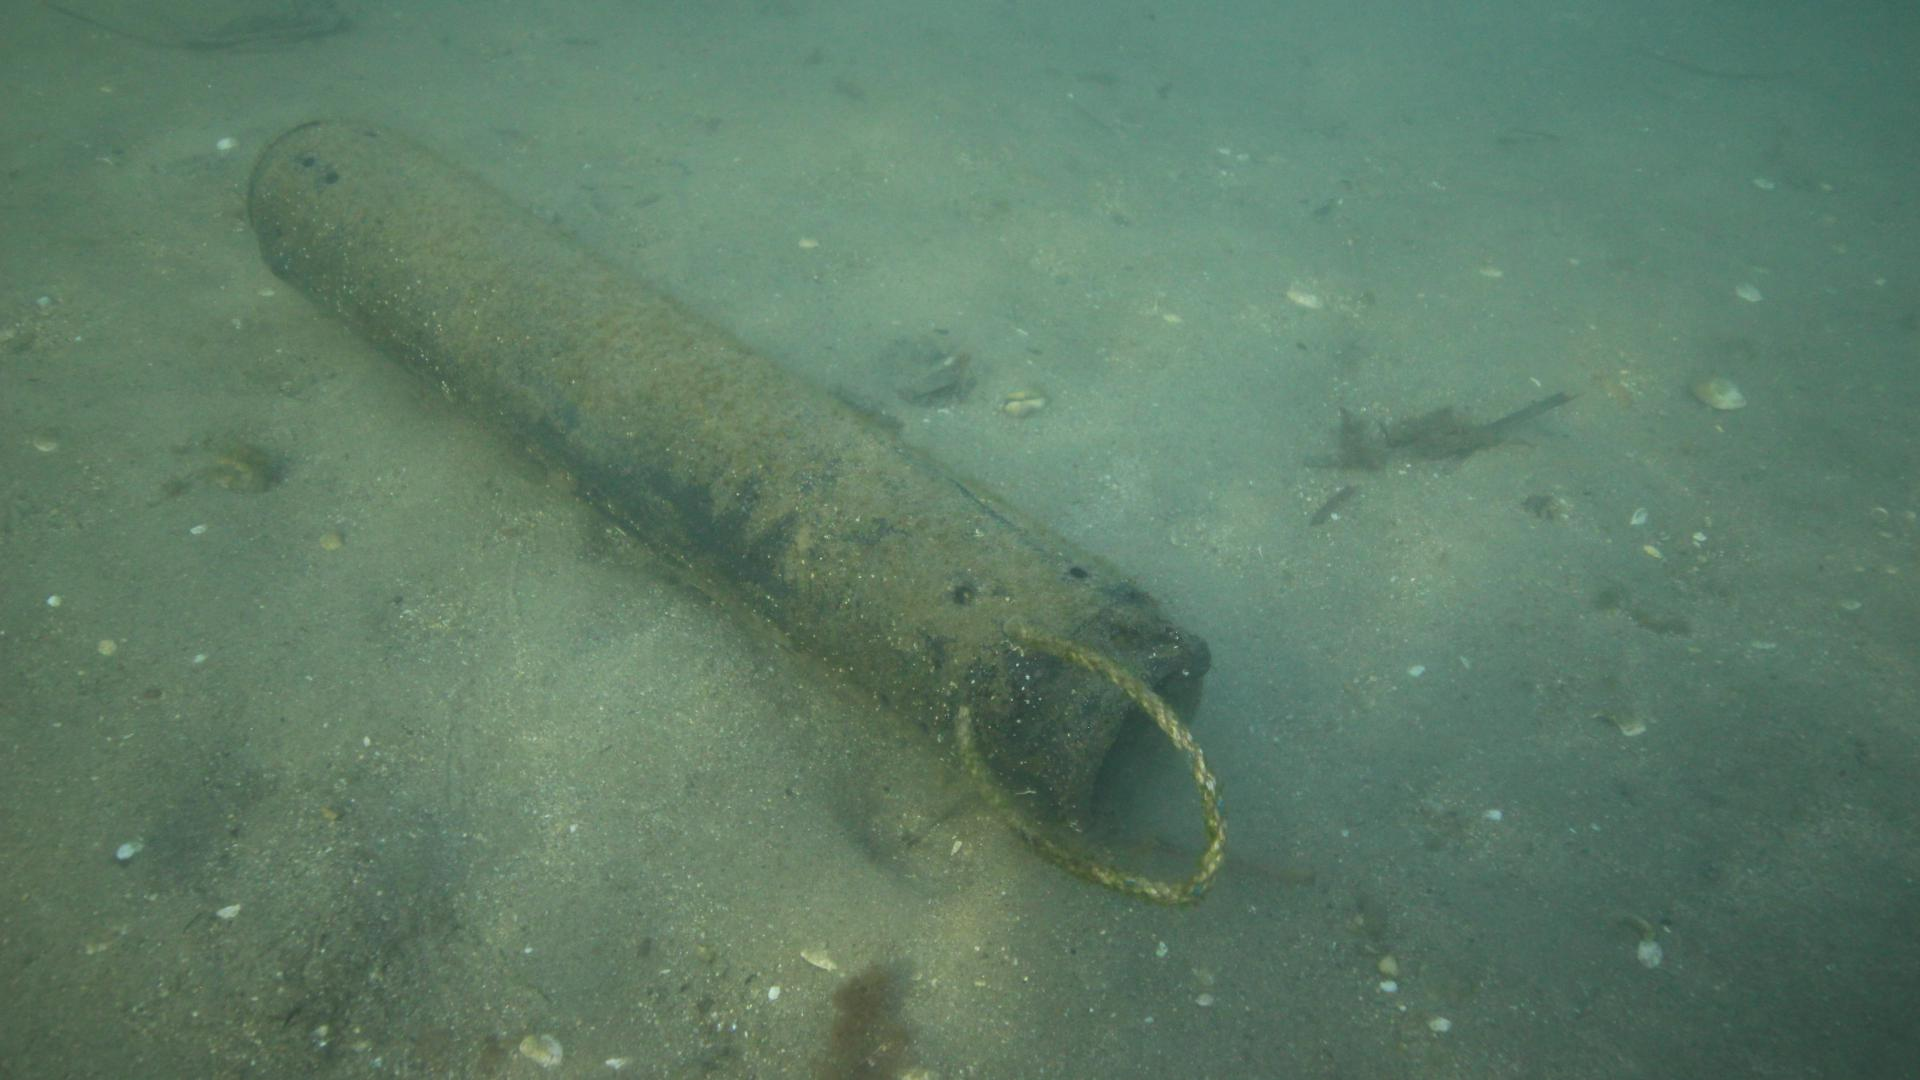eel fish trap: (243, 113, 1215, 843)
rope: (951, 625, 1232, 909)
